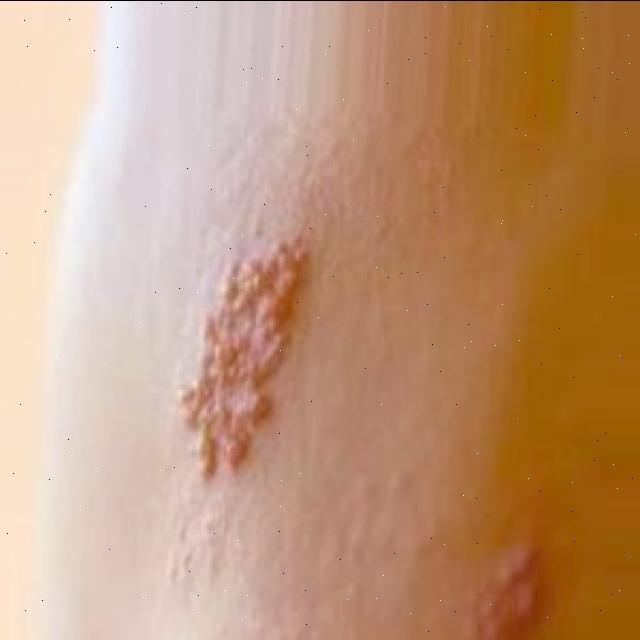Shingles: (176, 232, 312, 480), (470, 542, 549, 639)
